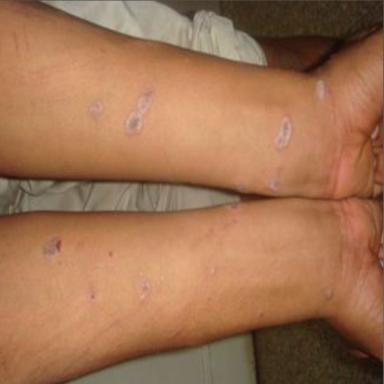lichen: (125, 92, 153, 135), (274, 114, 292, 150), (43, 239, 57, 262), (139, 277, 149, 300), (90, 100, 102, 118)
